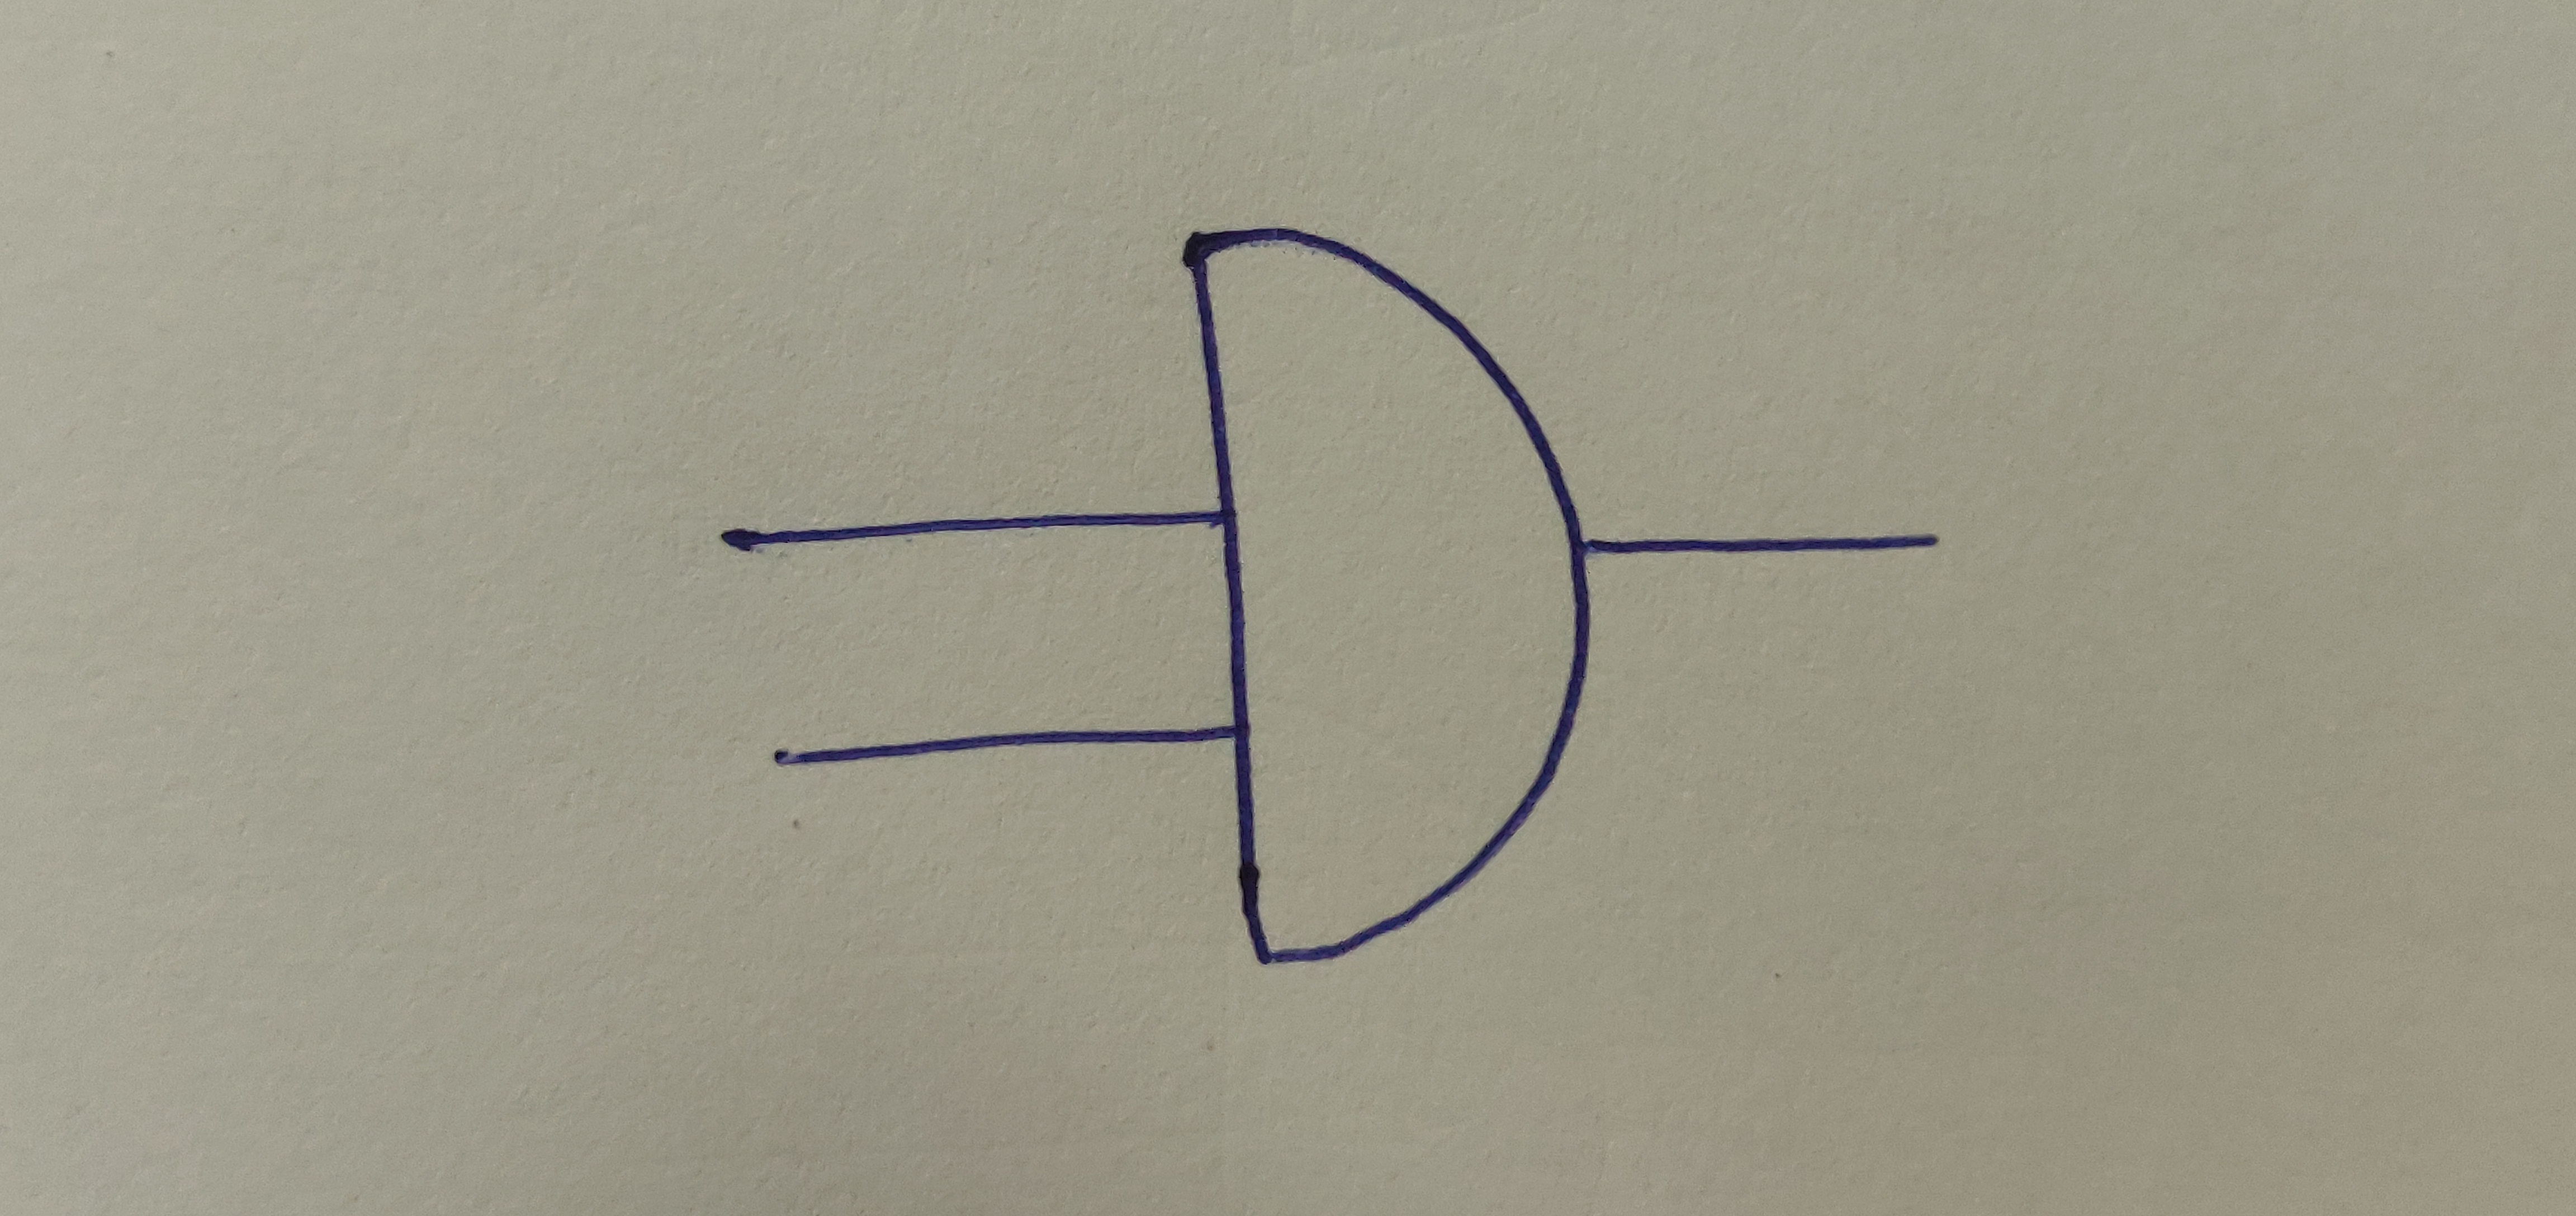and: (1181, 225, 1600, 973)
